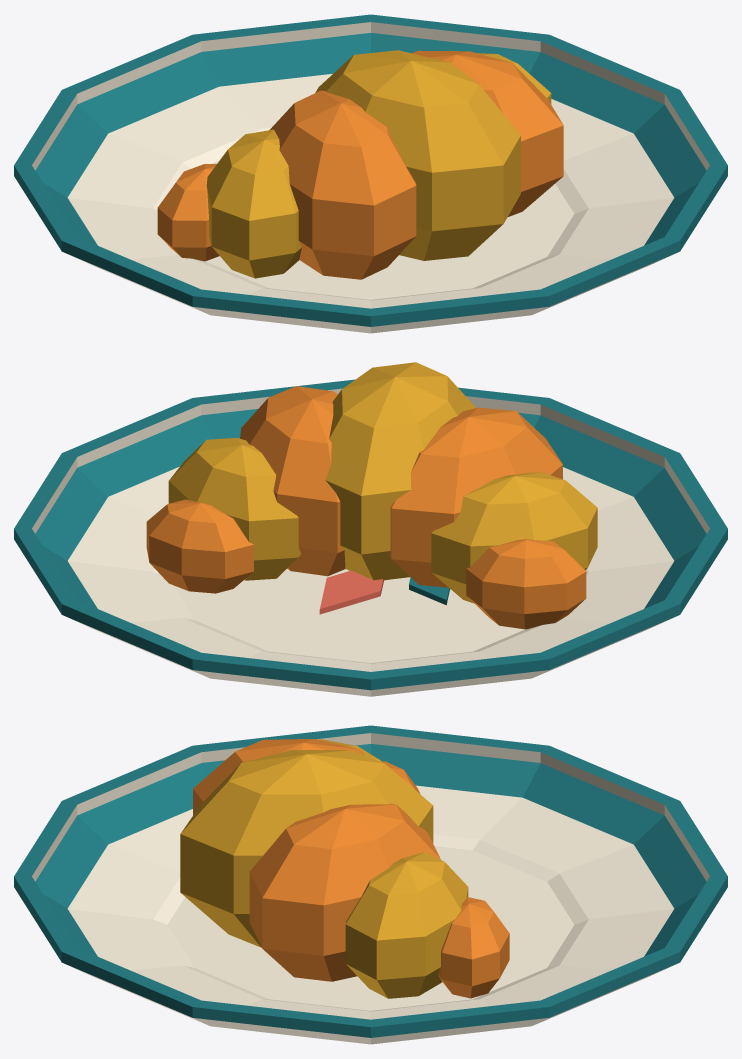
The model's file is plate_with_pastry.glb.
3 views of the same model, one above another, from view 1: azimuth 30°, elevation 25°; view 2: azimuth 150°, elevation 25°; view 3: azimuth 270°, elevation 25° (orthographic).
Visible parts, largest first — view 1: plate_with_pastry; view 2: plate_with_pastry; view 3: plate_with_pastry.
Boxes of the visible parts, left/top/right/bottom form: plate_with_pastry: left=14, top=14, right=727, bottom=333; plate_with_pastry: left=14, top=362, right=727, bottom=696; plate_with_pastry: left=14, top=725, right=727, bottom=1044.
Bounding box in the file's own units: 0.24 × 0.0707 × 0.24.
